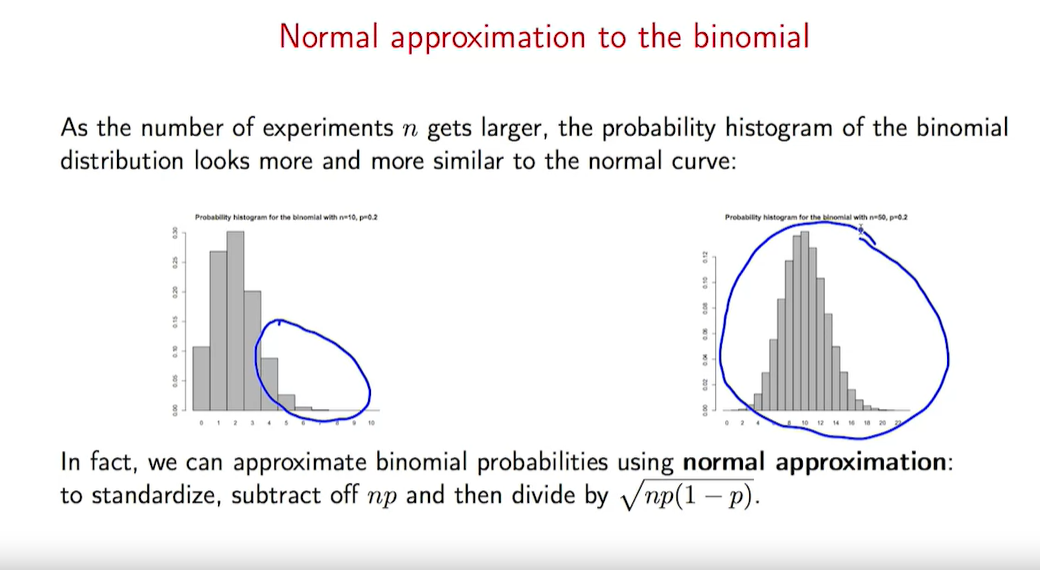figure: (696, 210, 920, 432), (168, 208, 390, 428)
text: (57, 448, 953, 514), (59, 113, 1010, 174), (277, 18, 810, 57)
